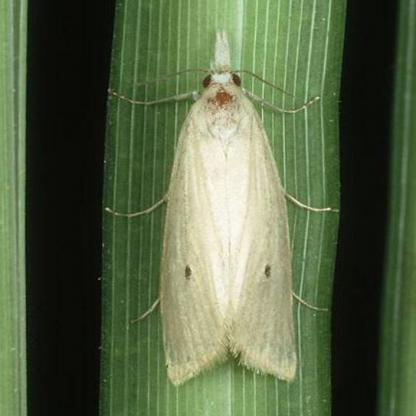stem-borer: (127, 26, 304, 387)
